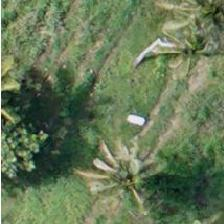Kelapa_Sawit: (71, 146, 161, 224), (145, 0, 224, 69)
